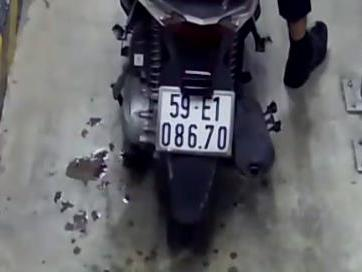num_plate: (158, 86, 234, 156)
